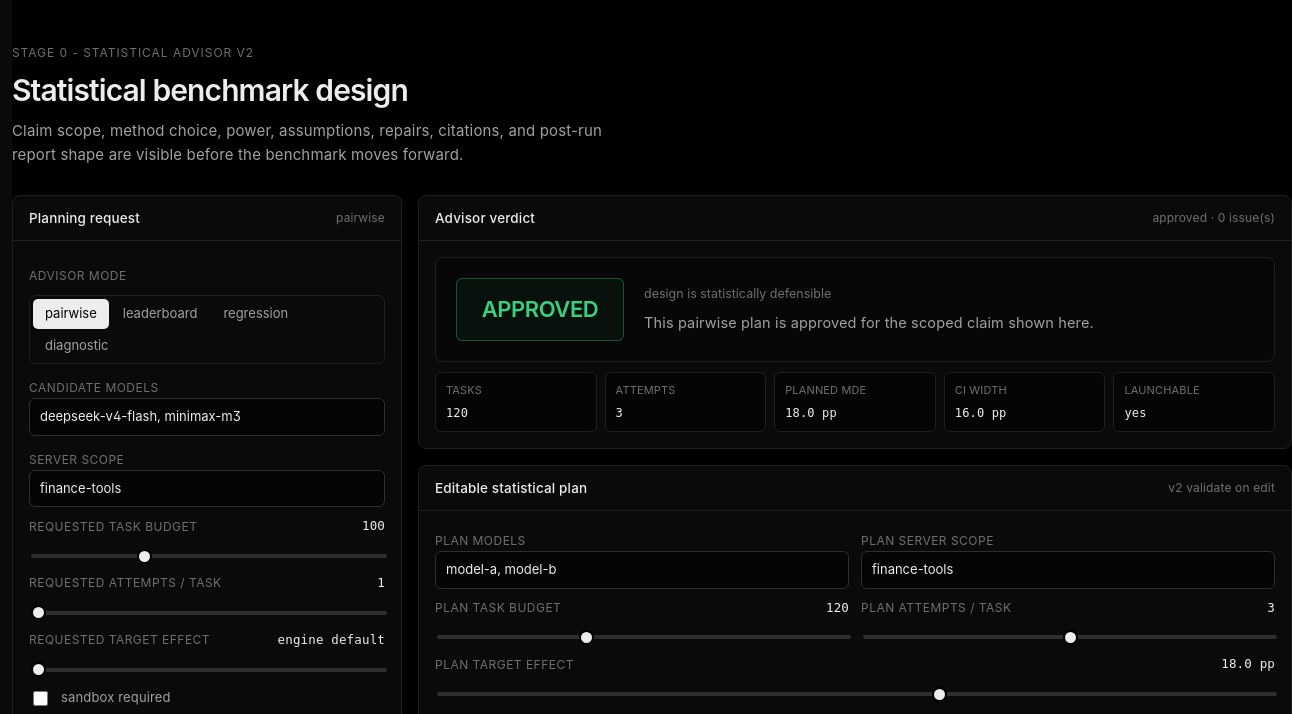
Test: Design v2 advisor workbench › shows readable field help cards on hover
The image size is (1292, 714).
Hover over the text "requested task budget" at (113, 527), box 29,518 -> 198,536
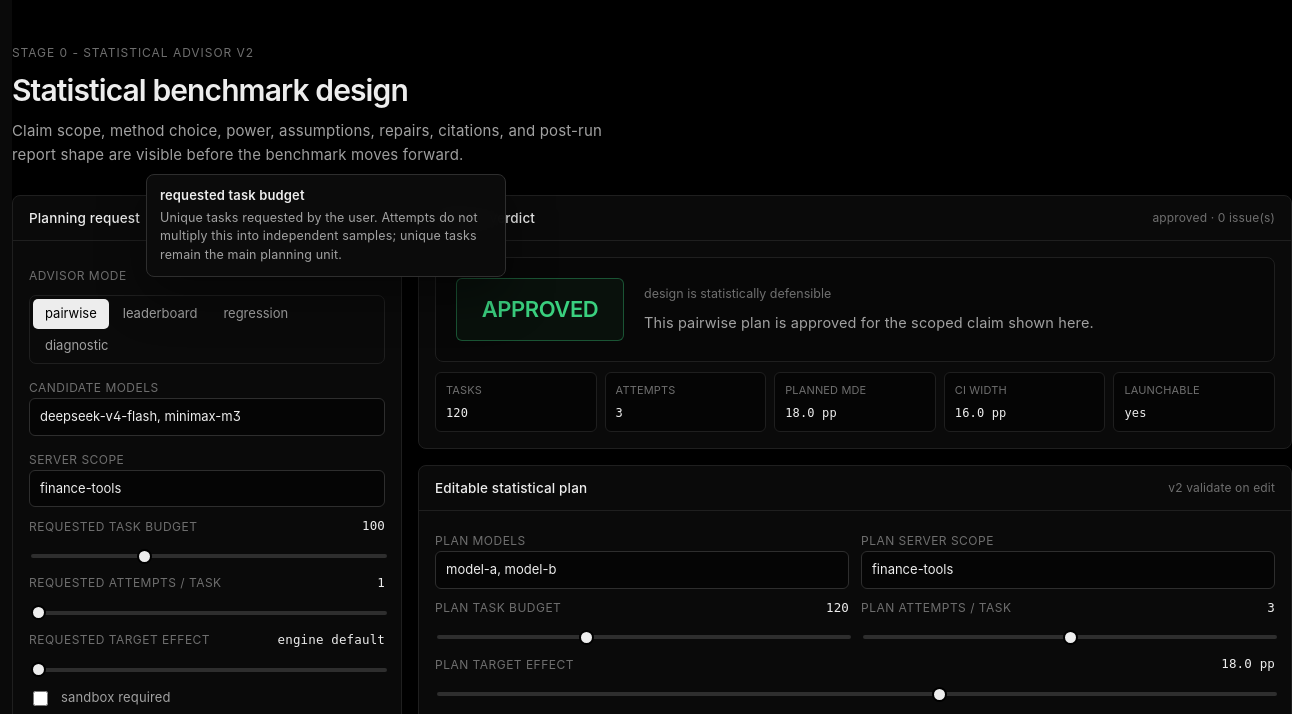
expect the text "Unique tasks requested by the user. Attempts do not multiply this into independent samples; unique tasks remain the main" is shown: met, box 160,210 -> 478,262
